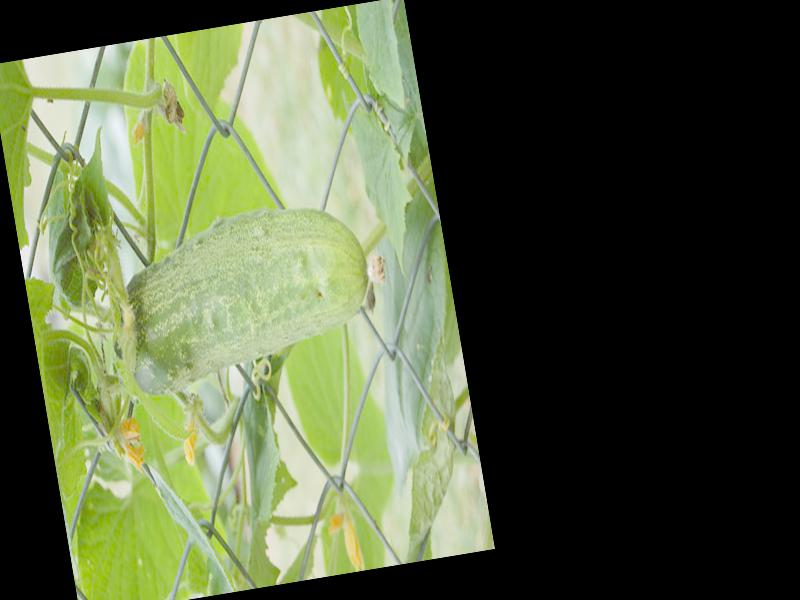Cucumber: (98, 196, 396, 396)
